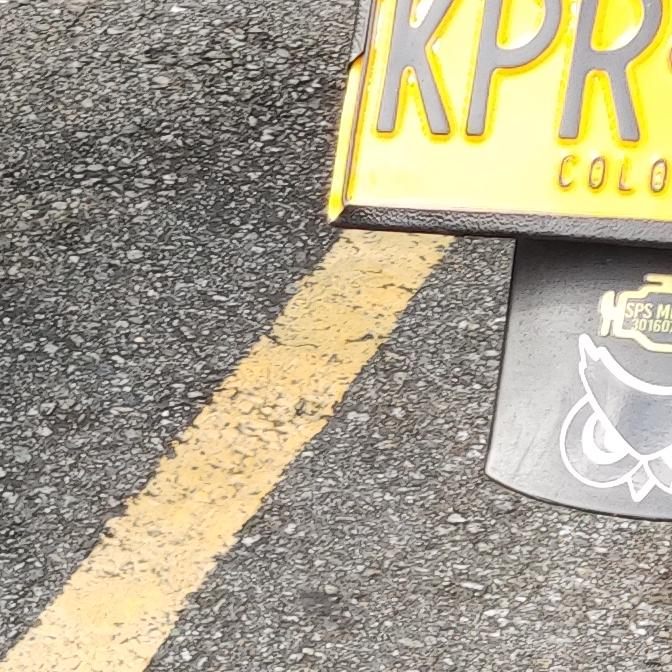plates: (322, 0, 672, 250)
